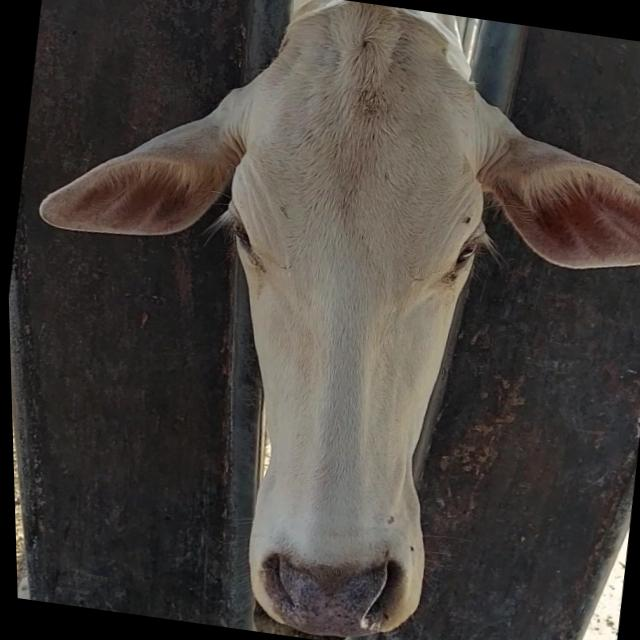cowFace: (165, 0, 521, 640)
